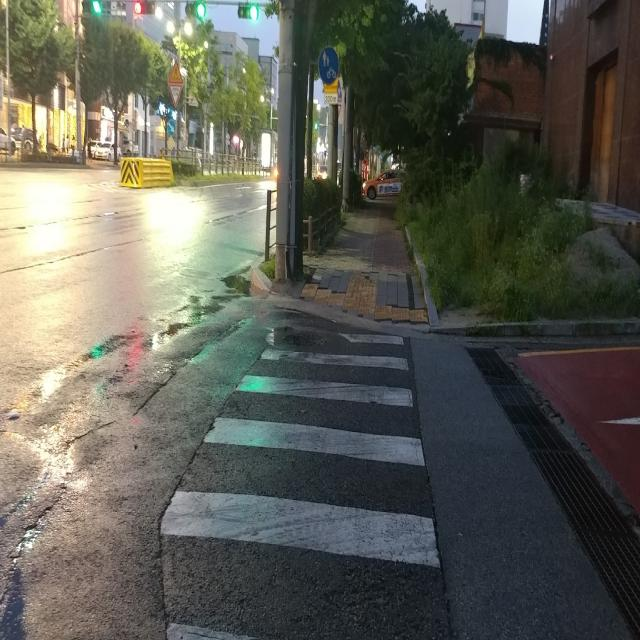횡단보도: (160, 323, 440, 640)
